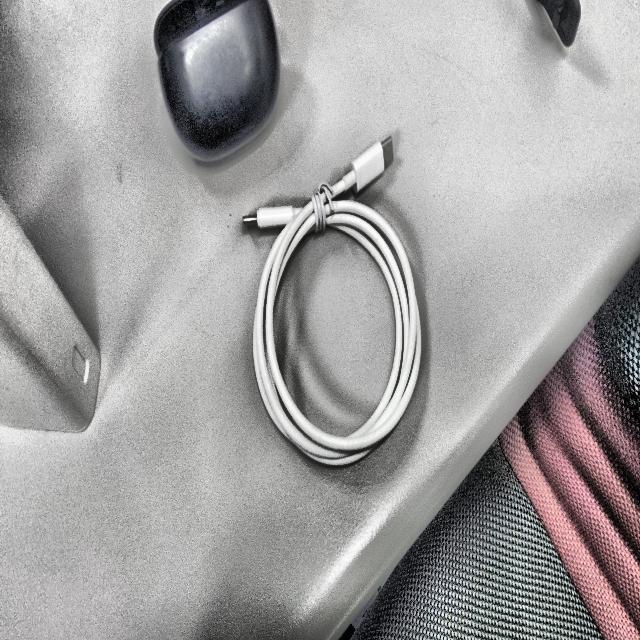Bluetooth headphones: (154, 0, 280, 163)
Power bank: (0, 198, 100, 431)
